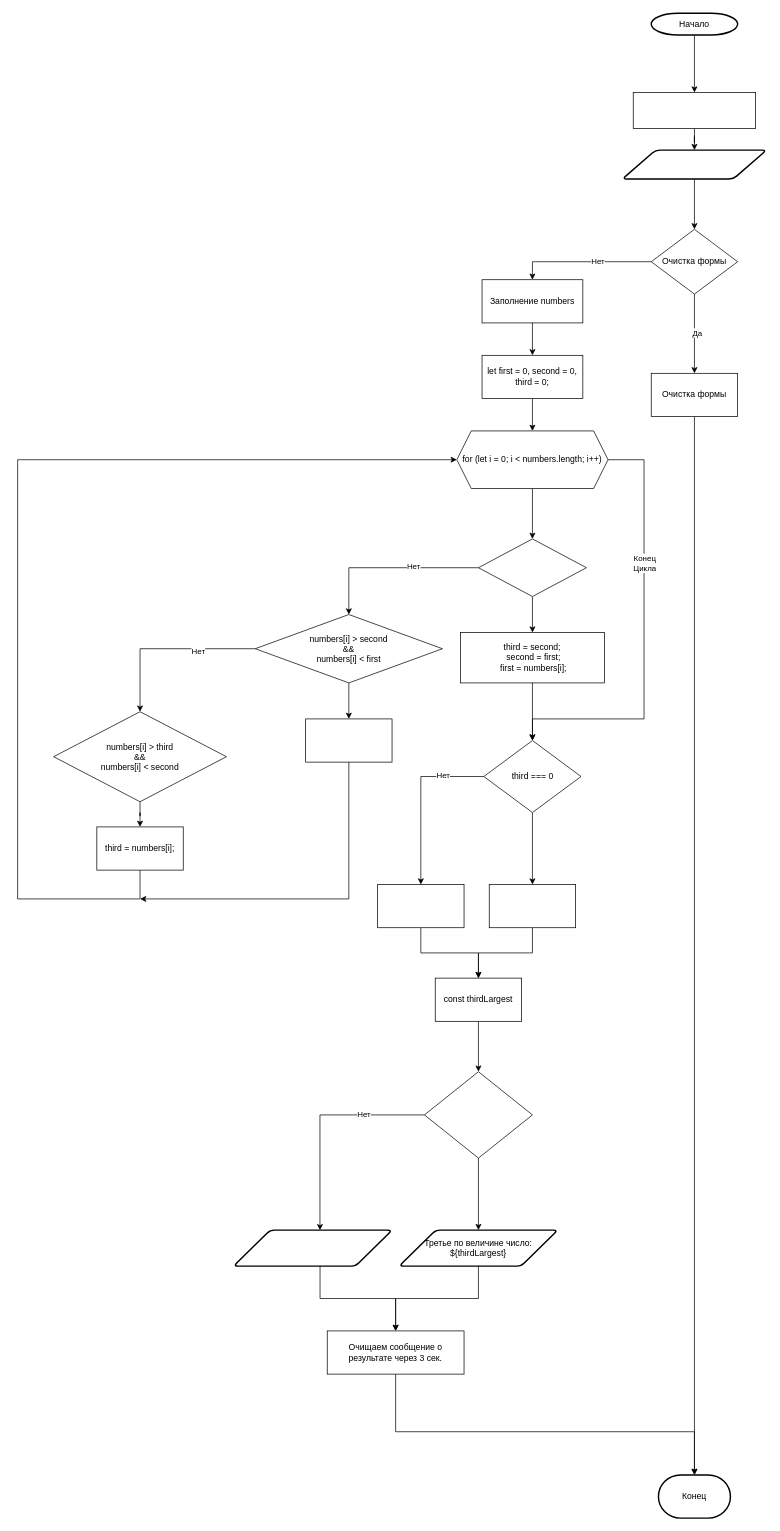
The diagram is 780 pixels wide and 1531 high, and some of its shapes have lost their labels. The centre of each missing label's shape, as x and y in pixels:
"numbers[i] > first" belongs at pixel 532 567.
"return null;" belongs at pixel 532 906.
"return third;" belongs at pixel 420 906.
"third = second; second = numbers[i];" belongs at pixel 348 740.
"thirdLargest !== null" belongs at pixel 478 1114.
"Ввод чисел" belongs at pixel 694 164.
"Загрузка DOM содержимого" belongs at pixel 694 110.
"Третье по величине число не существует." belongs at pixel 312 1247.
